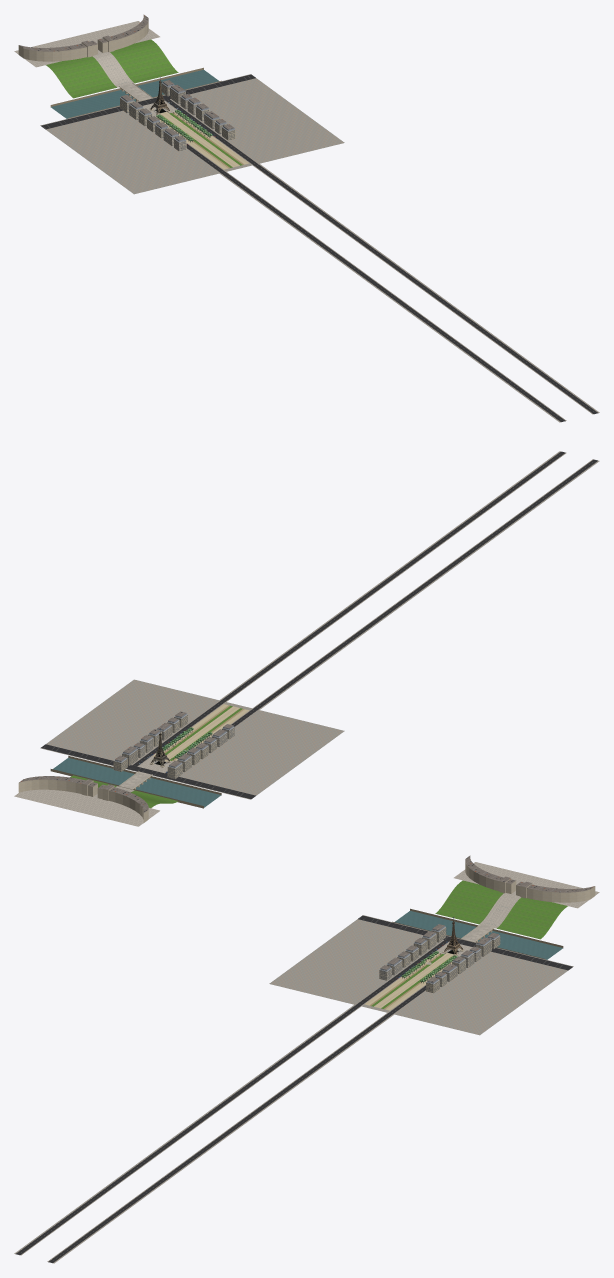
File: lugar-paris.glb
3 views of the same model, one above another, from view 1: azimuth 30°, elevation 25°; view 2: azimuth 150°, elevation 25°; view 3: azimuth 330°, elevation 25° (orthographic).
Visible parts, largest first — view 1: luzG-cerca, luzE, planoE; view 2: luzG-cerca, luzE, planoE; view 3: luzG-cerca, luzE, planoE.
Part boxes in pixels (x1=…): luzG-cerca: x1=14, y1=21, x2=599, y2=422; luzE: x1=18, y1=14, x2=235, y2=151; planoE: x1=51, y1=69, x2=218, y2=118; luzG-cerca: x1=14, y1=451, x2=599, y2=826; luzE: x1=18, y1=711, x2=234, y2=822; planoE: x1=53, y1=757, x2=221, y2=807; luzG-cerca: x1=14, y1=862, x2=599, y2=1263; luzE: x1=379, y1=855, x2=595, y2=993; planoE: x1=395, y1=910, x2=562, y2=959.
Bounding box in the file's own units: 440 × 74 × 1820.
33 materials, 17 textured.
